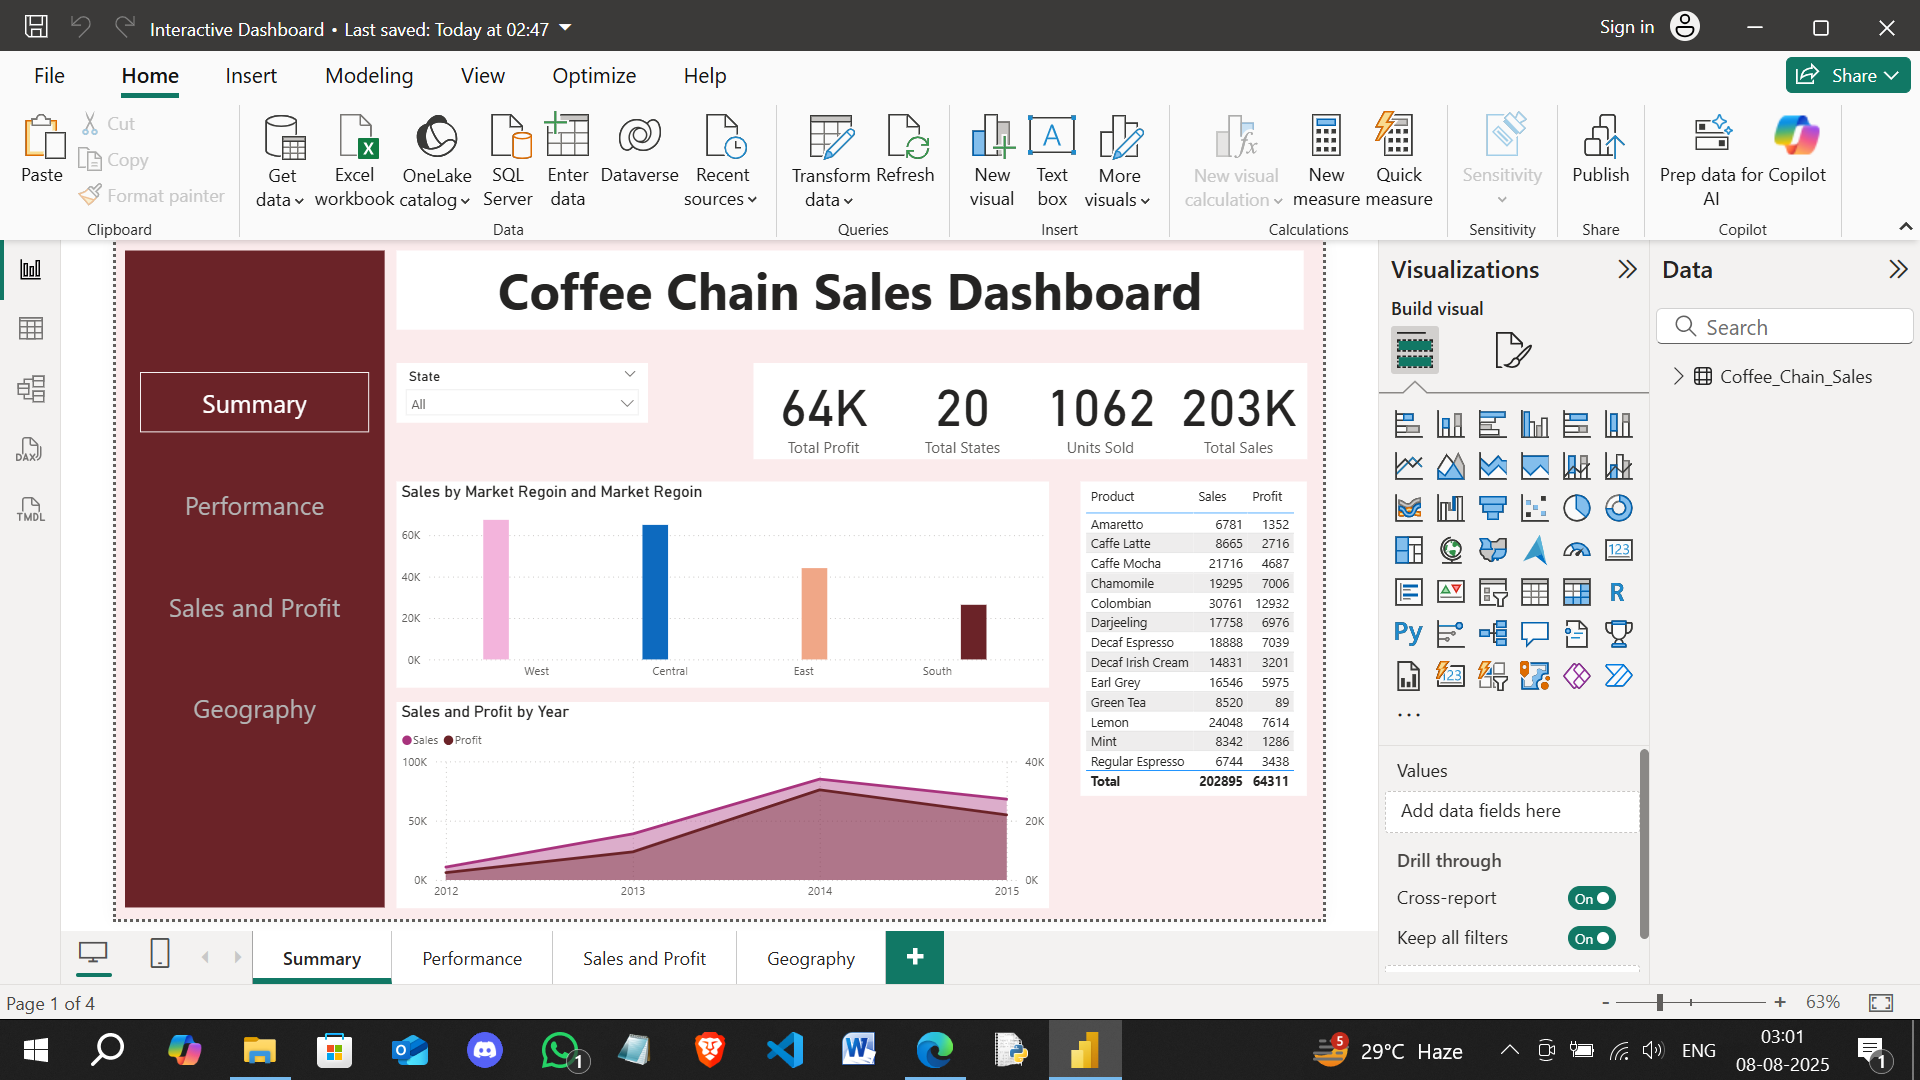

This screenshot's page, from the dashboard's own definition file:
{"tool":"powerbi","page":{"name":"Summary","canvas":[1280,720],"ordinal":0},"visuals":[{"type":"textbox","box":[9.5,11.1,275.2,696.7],"z":0},{"type":"textbox","box":[297.4,11.1,962.3,84.3],"z":1000},{"type":"tableEx","fields":{"Values":["Coffee_Chain_Sales.Product","Sum(Coffee_Chain_Sales.Sales)","Sum(Coffee_Chain_Sales.Profit)"]},"box":[1023.3,256.7,240,333.3],"z":2000},{"type":"card","fields":{"Values":["Sum(Coffee_Chain_Sales.Sales)"]},"box":[1116.7,130,146.7,101.7],"z":3000},{"type":"card","fields":{"Values":["Count(Coffee_Chain_Sales.State)"]},"box":[823.3,130,146.7,101.7],"z":4000},{"type":"card","fields":{"Values":["Sum(Coffee_Chain_Sales.Profit)"]},"box":[676,130.4,147.9,101.8],"z":5000},{"type":"slicer","fields":{"Values":["Coffee_Chain_Sales.State"]},"box":[296.7,130,266.7,63.3],"z":6000},{"type":"card","fields":{"Values":["CountNonNull(Coffee_Chain_Sales.Area Code)"]},"box":[970,130,146.7,101.7],"z":7000},{"type":"areaChart","fields":{"Category":["Coffee_Chain_Sales.Year"],"Y":["Sum(Coffee_Chain_Sales.Sales)"],"Y2":["Sum(Coffee_Chain_Sales.Profit)"]},"box":[296.7,490,691.7,218.3],"z":8000},{"type":"clusteredColumnChart","fields":{"Category":["Coffee_Chain_Sales.Market"],"Y":["Sum(Coffee_Chain_Sales.Sales)"],"Series":["Coffee_Chain_Sales.Market"]},"box":[296.7,256.7,691.7,218.3],"z":9000},{"type":"pageNavigator","box":[25.4,140,243.4,388.1],"z":9001}]}

Visuals, with their boxes on the page's 1280x720 design canvas (x1, y1, x2, y2). These are canvas units, not pixel positions in the 1920x1080 screenshot, which may show the page scaled, cropped or inside an application window:
textbox: 10 11 285 708
textbox: 297 11 1260 95
tableEx - Coffee_Chain_Sales.Product x Sum(Coffee_Chain_Sales.Sales): 1023 257 1263 590
card - Sum(Coffee_Chain_Sales.Sales): 1117 130 1263 232
card - Count(Coffee_Chain_Sales.State): 823 130 970 232
card - Sum(Coffee_Chain_Sales.Profit): 676 130 824 232
slicer - Coffee_Chain_Sales.State: 297 130 563 193
card - CountNonNull(Coffee_Chain_Sales.Area Code): 970 130 1117 232
areaChart - Coffee_Chain_Sales.Year x Sum(Coffee_Chain_Sales.Sales): 297 490 988 708
clusteredColumnChart - Coffee_Chain_Sales.Market x Sum(Coffee_Chain_Sales.Sales): 297 257 988 475
pageNavigator: 25 140 269 528
